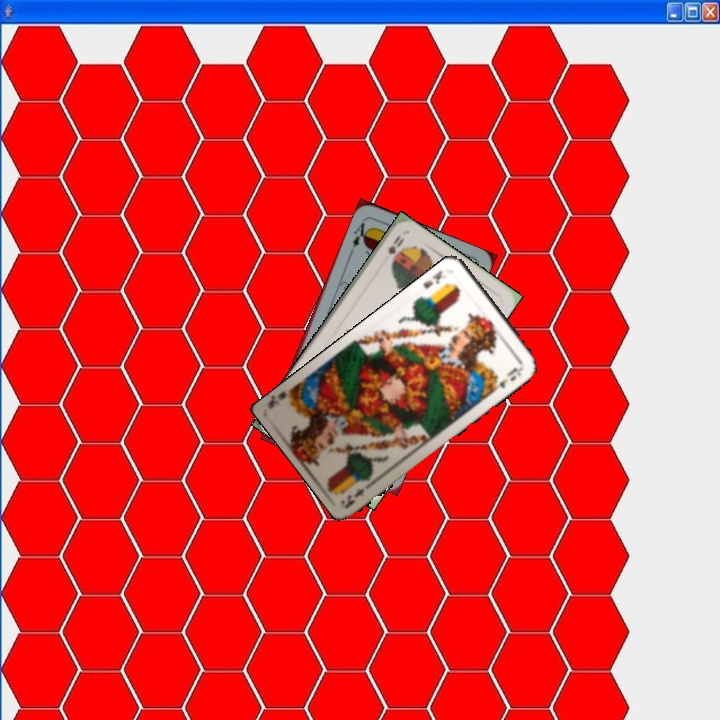EA: (346, 216, 372, 255)
EK: (342, 476, 377, 509), (419, 266, 445, 291)
SO: (384, 232, 407, 258)
